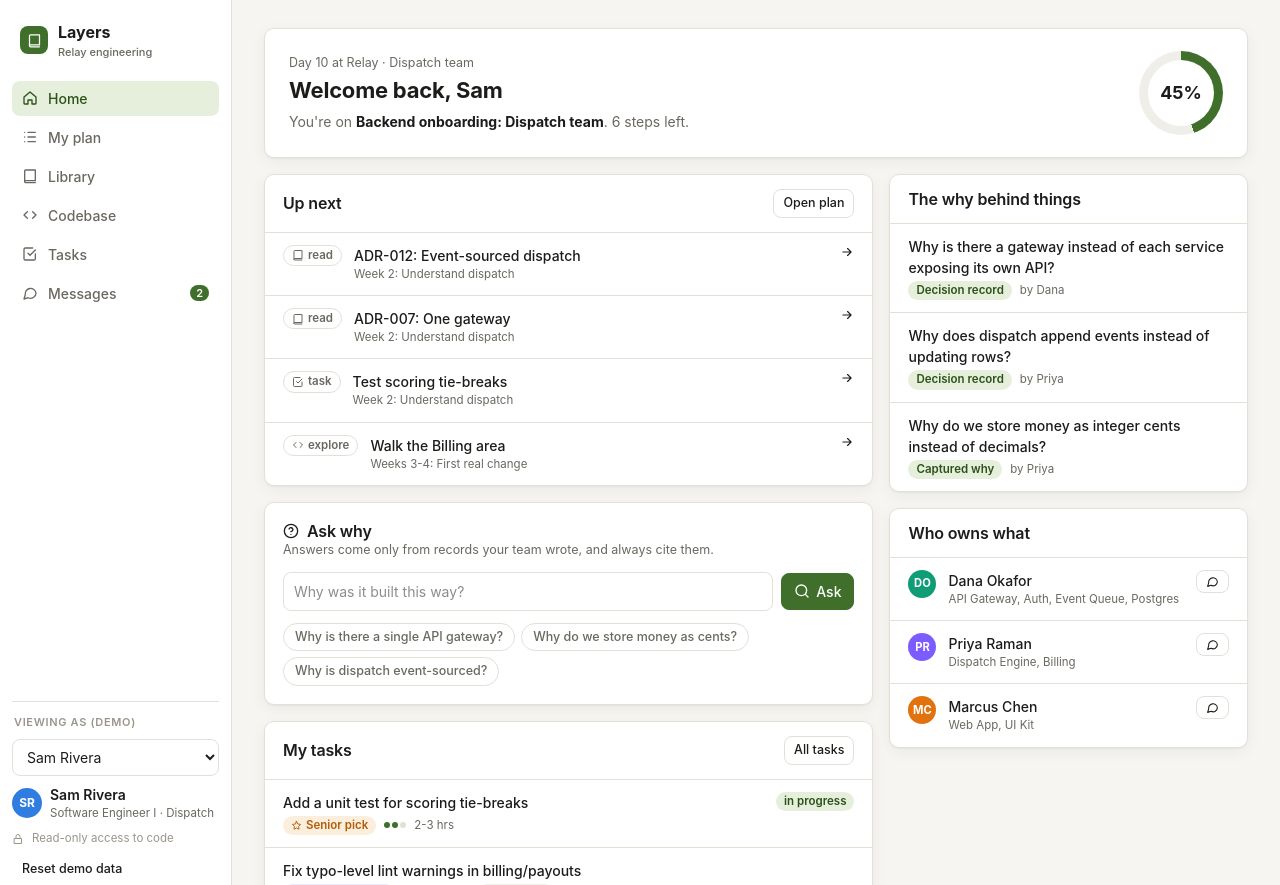
it: AskWhy › clears back to the examples
The width and height of the screenshot is (1280, 885).
Click the button "Why do we store money as cents?": click(635, 637) [521,622,749,651]
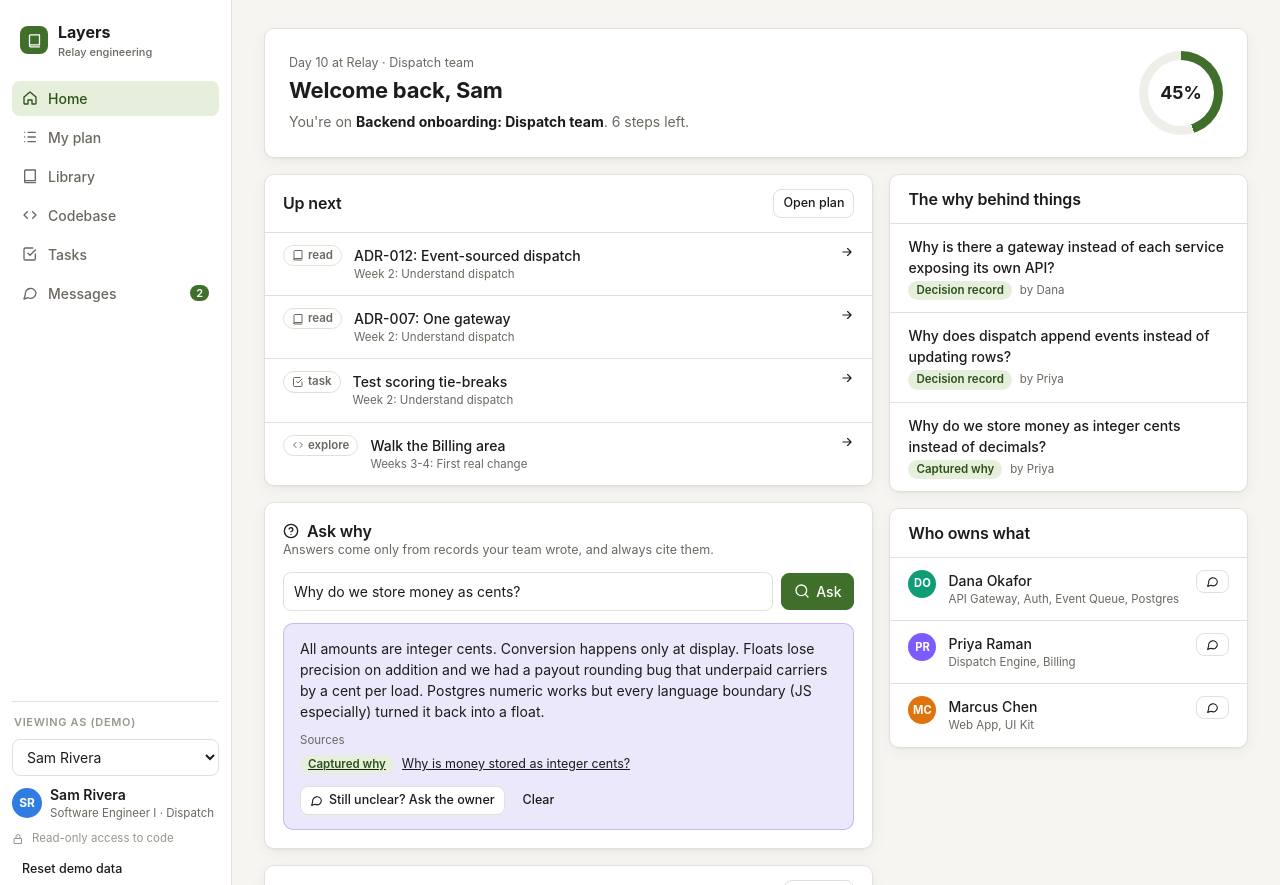
Click the button "Clear": click(538, 800) [513,786,564,815]
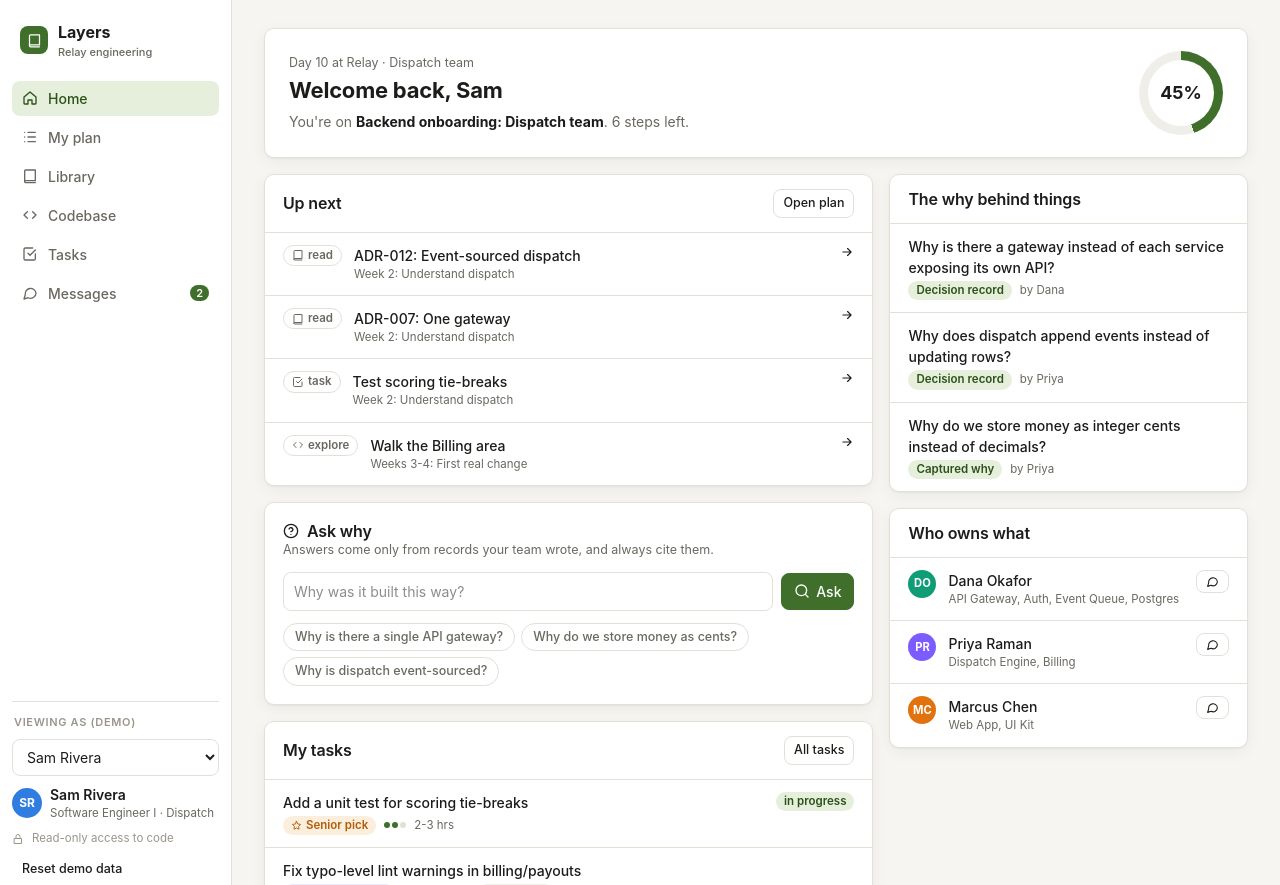
expect the button "Why is dispatch event-sourced?" is shown: met, box [283,657,499,686]
